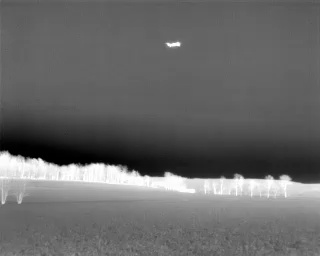DRONE: (162, 37, 185, 53)
